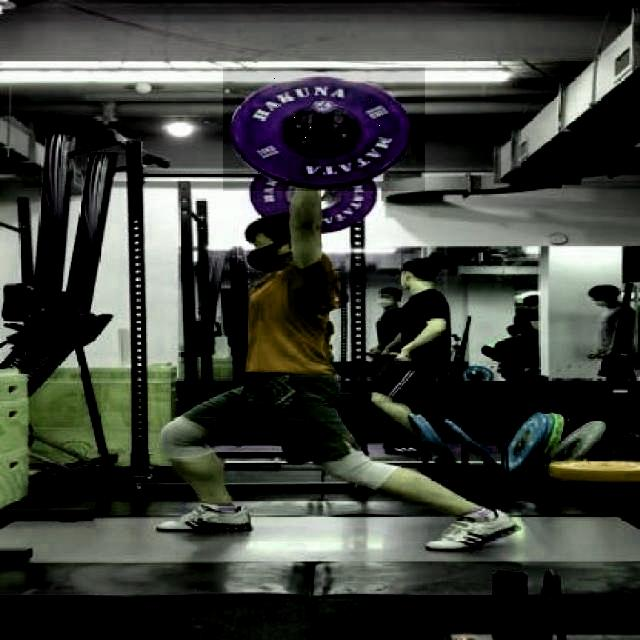barbell: (223, 68, 425, 192)
